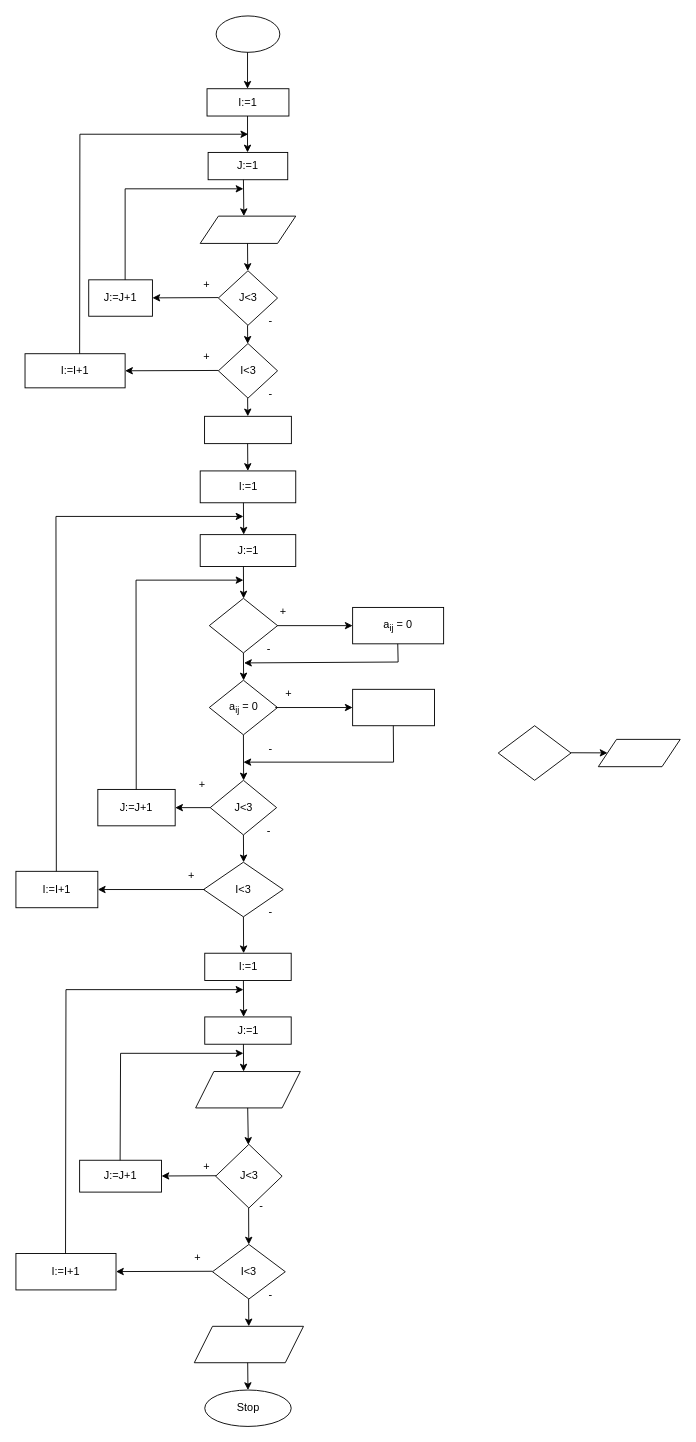
Some shapes in this 696 by 1442 pixel diagram are drawn without their labels. Here are the shapes that lost their labels. From the top down, the box of each, then its label:
(215, 15, 280, 52): start
(199, 215, 296, 243): Zadaj a ij
(204, 415, 291, 444): S:=0
(208, 597, 278, 653): I=J
(352, 688, 435, 726): S:=S+1
(497, 725, 571, 780): A ij mod 2 =0
(195, 1071, 300, 1108): Vypiš a ij
(193, 1325, 303, 1363): Vypiš S
